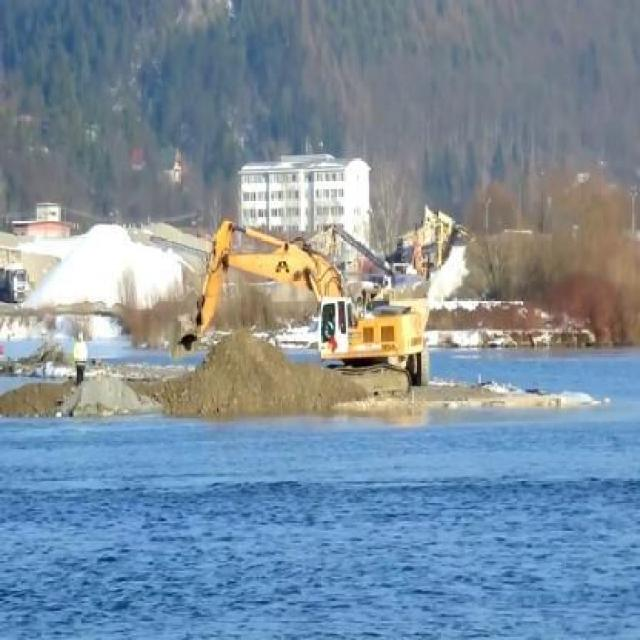Excavator: (165, 206, 432, 397)
